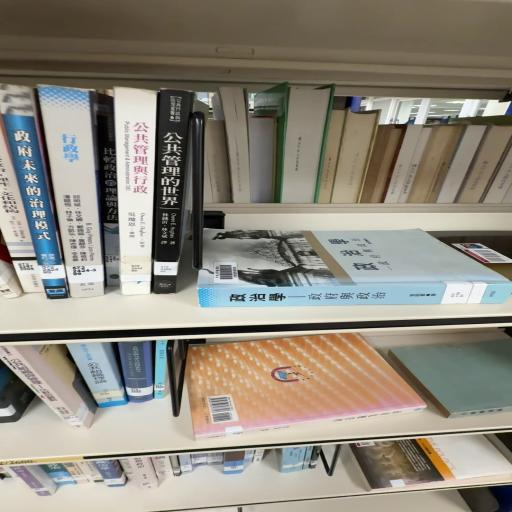flat: (187, 333, 426, 439), (197, 229, 512, 307), (389, 338, 511, 418), (350, 435, 511, 489)
